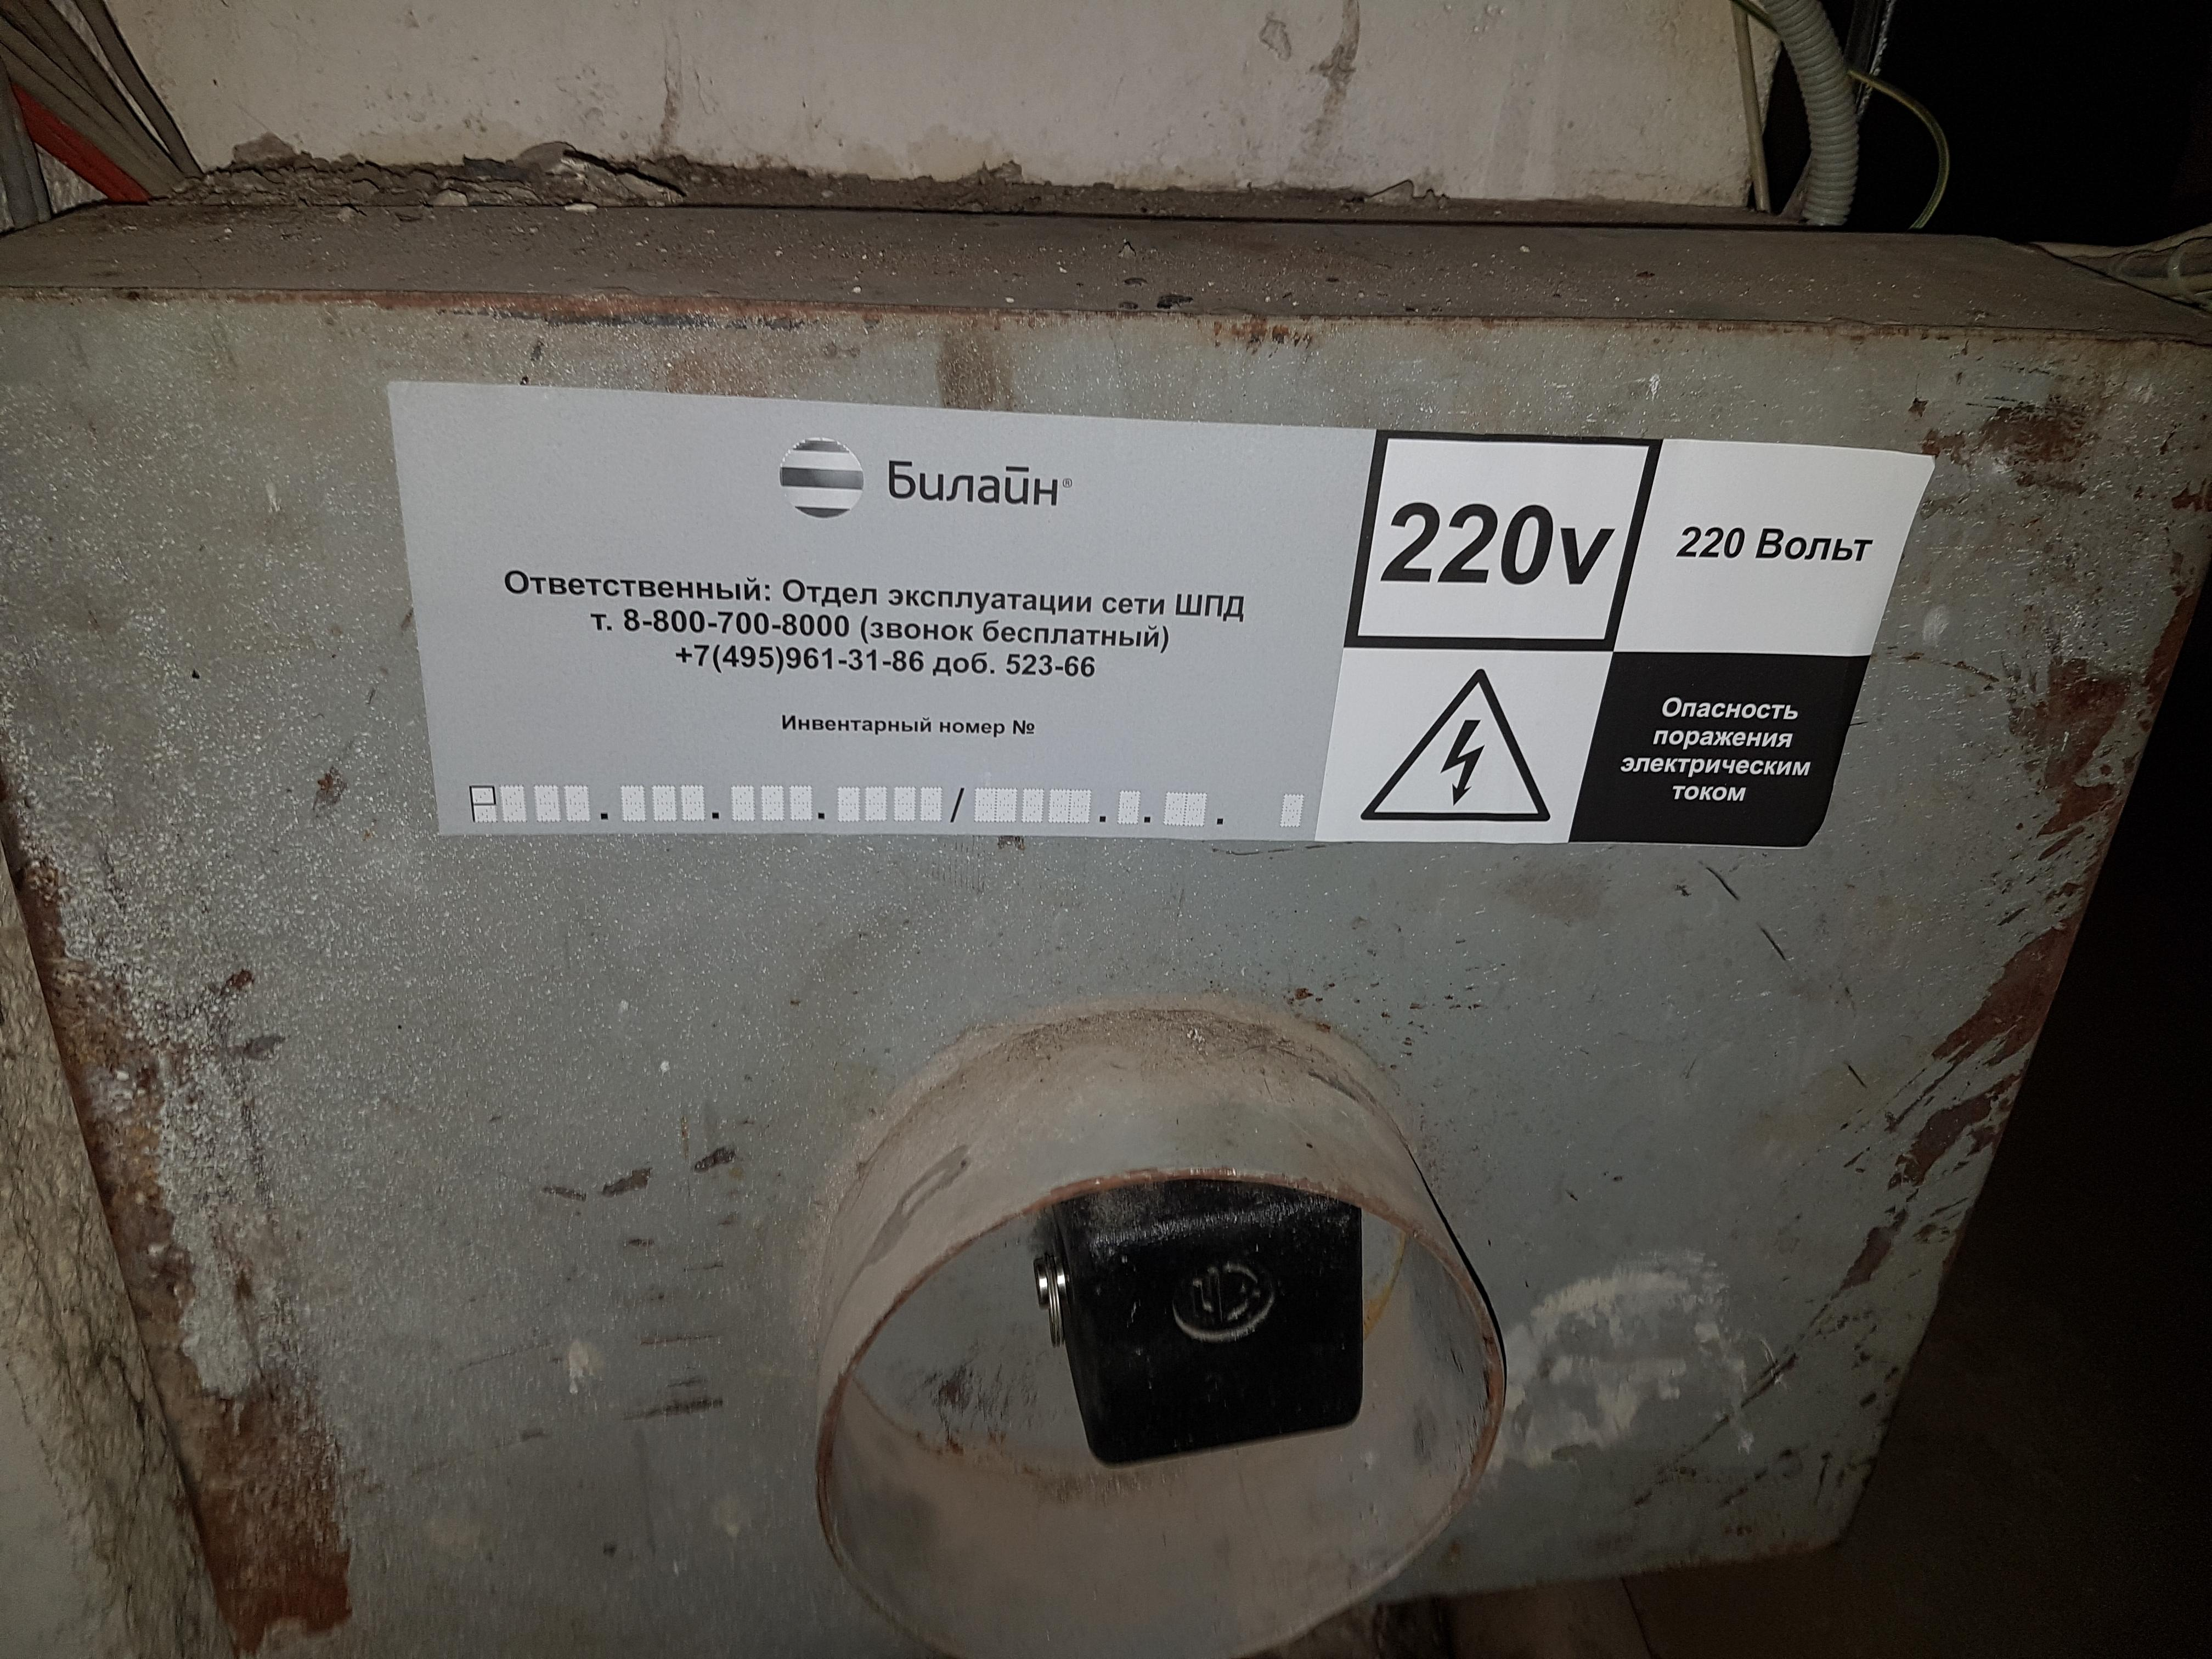shta-3: (9, 200, 2207, 1647)
